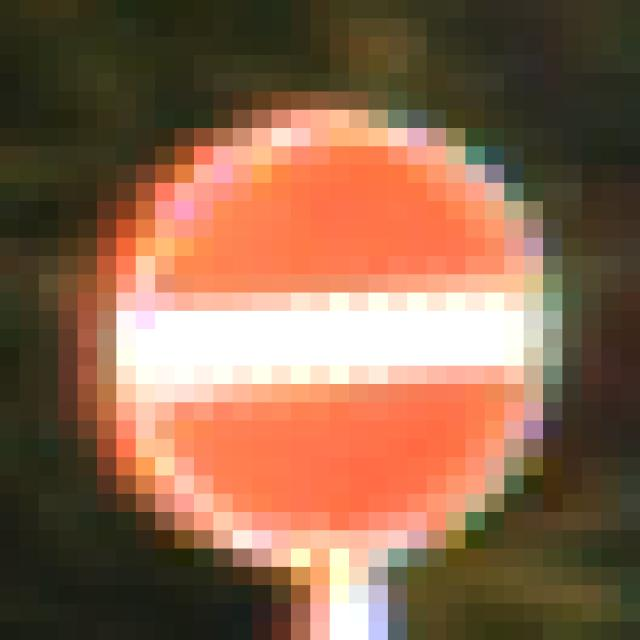No Entry: (117, 93, 544, 550)
